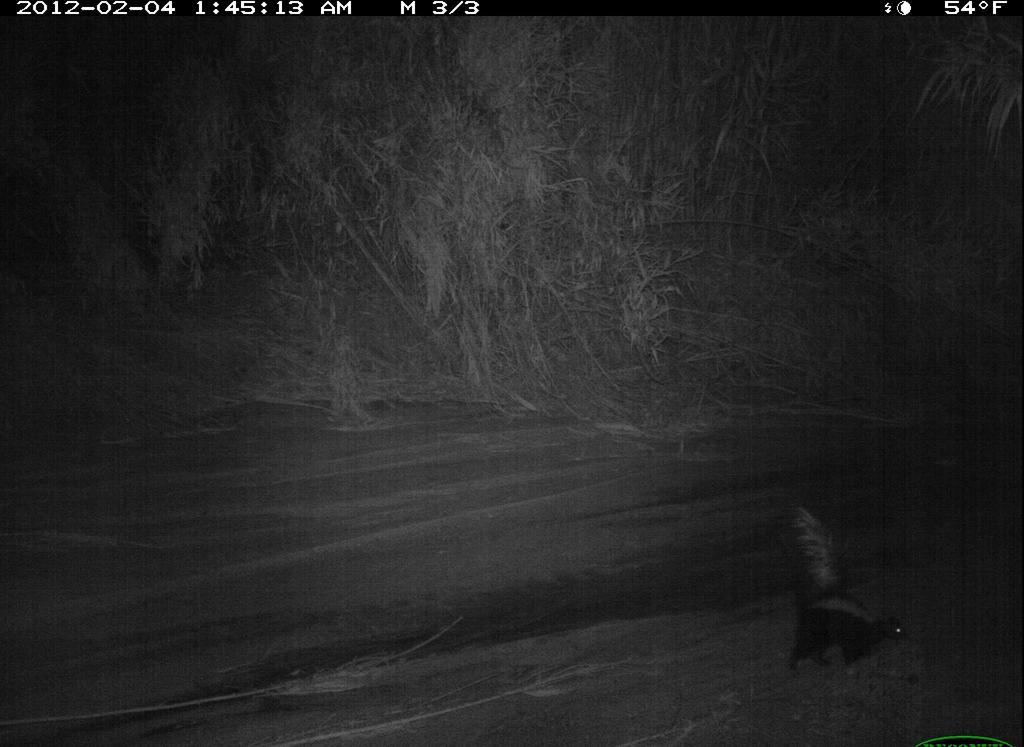skunk: (754, 505, 918, 676)
